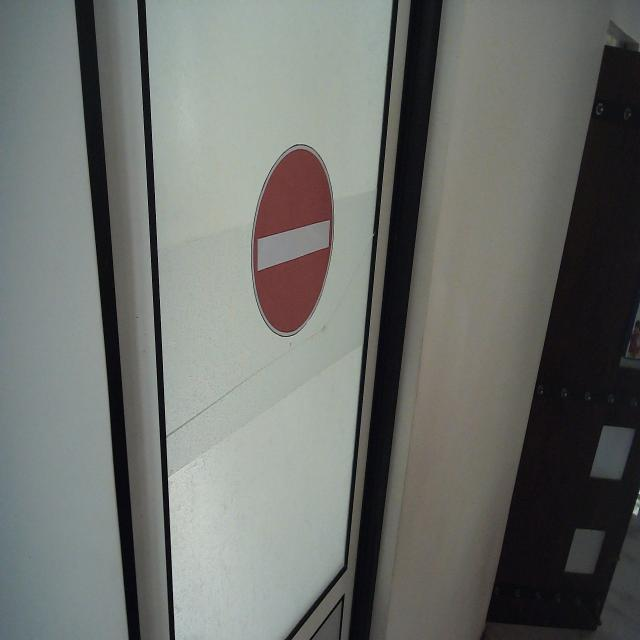no_entry: (249, 142, 336, 340)
